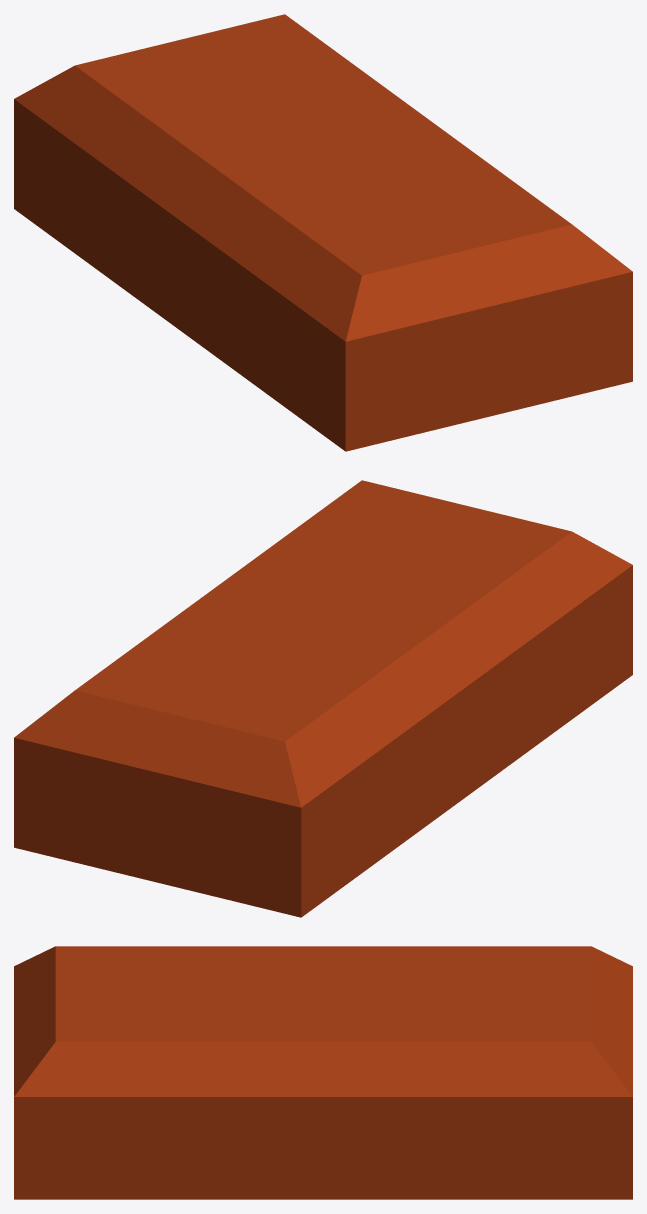
File: Forging_Sides_Copper_Bar.fbx
3 views of the same model, one above another, from view 1: azimuth 30°, elevation 25°; view 2: azimuth 150°, elevation 25°; view 3: azimuth 270°, elevation 25° (orthographic). The views are drawn at different scales.
Visible parts, largest first — view 1: Cube; view 2: Cube; view 3: Cube.
Part boxes in pixels (<box>): Cube: <box>14,14,632,451</box>; Cube: <box>14,480,632,917</box>; Cube: <box>14,946,632,1199</box>.
Size of the model in its own units: 80 by 40 by 160.
1 material, 1 textured.
